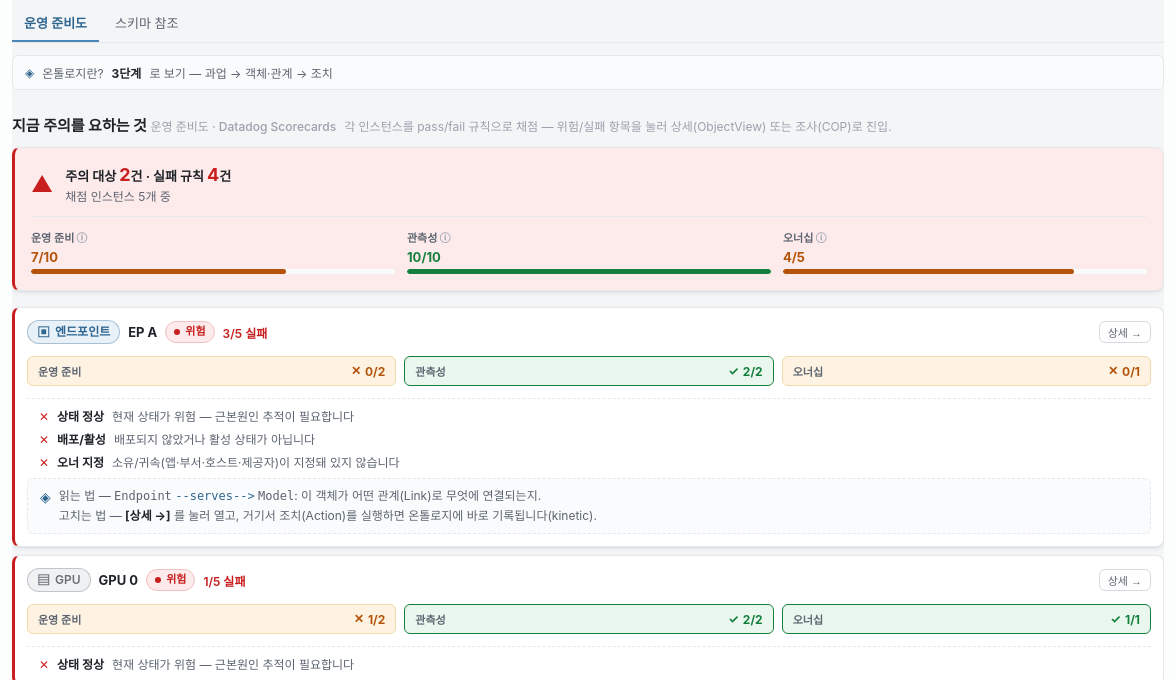
Test: Ontology — IMP-83 무엇/왜 온보딩(진행형 disclosure) › disclosure는 양 탭에서 동일하게 하나만 존재한다(공유 설명)
Expected: the heading "지금 주의를 요하는 것 운영 준비도 · Datadog Scorecards" is shown, [12,114,336,135]
Expected: the number of elements with class "onto-onboard" is 1, [12,55,1164,90]
What coordinates should you click on to do the following:
click the tab "스키마 참조"
I would click on:
 (147, 24)
Its box is [103,5,191,42].
(page scrolled)
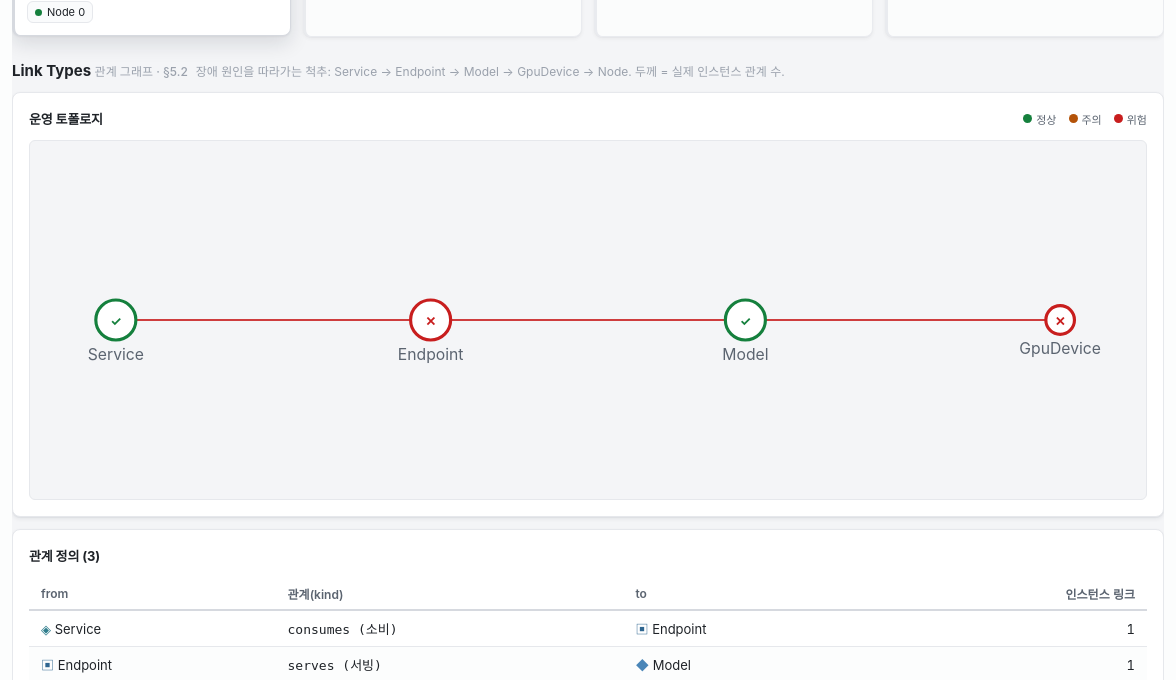
Now the icon with class "topo-svg" is shown, box [29,140,1147,500]
